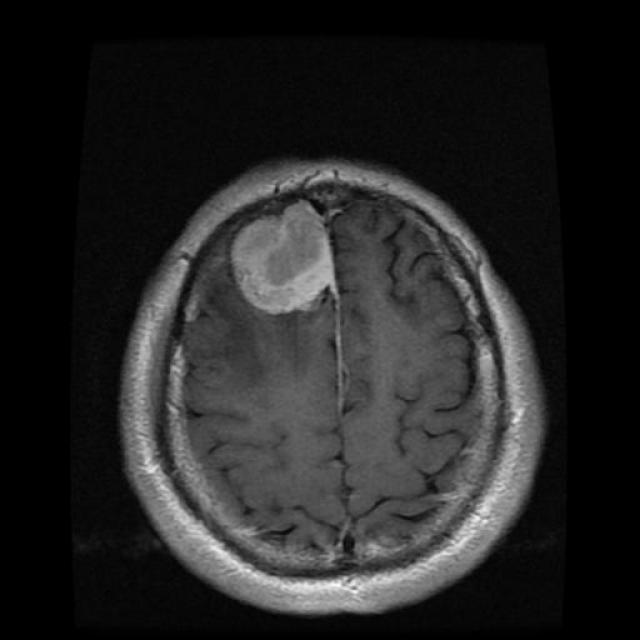Brain-Tumor: (220, 189, 344, 331)
